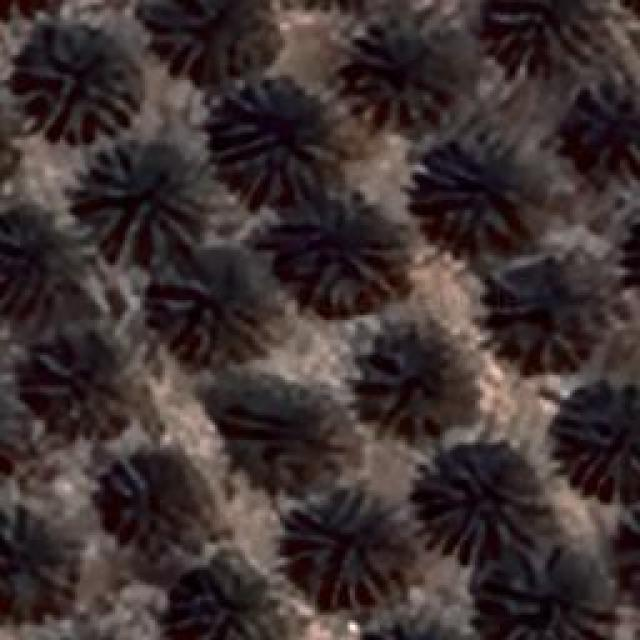PalmTree: (104, 27, 413, 626), (44, 108, 104, 565), (210, 80, 348, 200), (344, 324, 488, 438), (280, 182, 405, 312), (410, 445, 540, 560), (80, 140, 205, 258), (490, 250, 600, 378), (155, 250, 275, 365), (18, 29, 140, 142), (205, 372, 330, 482), (282, 485, 388, 610), (337, 22, 445, 128), (18, 337, 134, 435), (415, 135, 520, 240), (487, 552, 615, 638), (547, 380, 635, 500), (150, 0, 280, 78), (106, 458, 204, 550), (489, 0, 612, 62), (180, 564, 275, 638), (0, 217, 72, 304), (574, 75, 638, 170), (617, 496, 640, 608), (0, 371, 23, 479), (622, 494, 640, 610), (0, 74, 15, 198), (274, 1, 394, 16), (0, 373, 16, 478), (0, 78, 12, 202), (274, 0, 391, 10), (630, 196, 640, 304)
